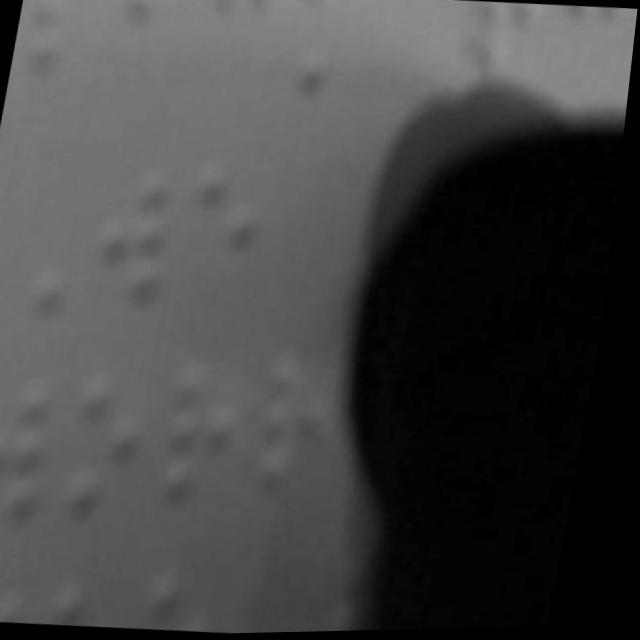braiile: (163, 347, 267, 518), (63, 355, 167, 523), (254, 341, 360, 503), (180, 157, 279, 309), (98, 157, 192, 306), (13, 0, 106, 130), (107, 0, 203, 122), (0, 371, 77, 523), (286, 0, 383, 100), (195, 0, 286, 98)
